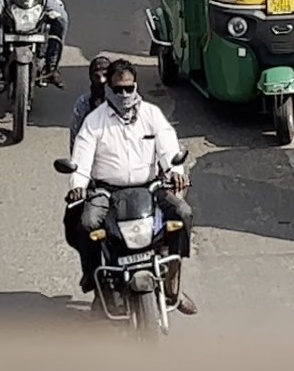BikeWithRider: (48, 47, 205, 354)
NoHelmet: (99, 56, 145, 113), (81, 49, 116, 99)
